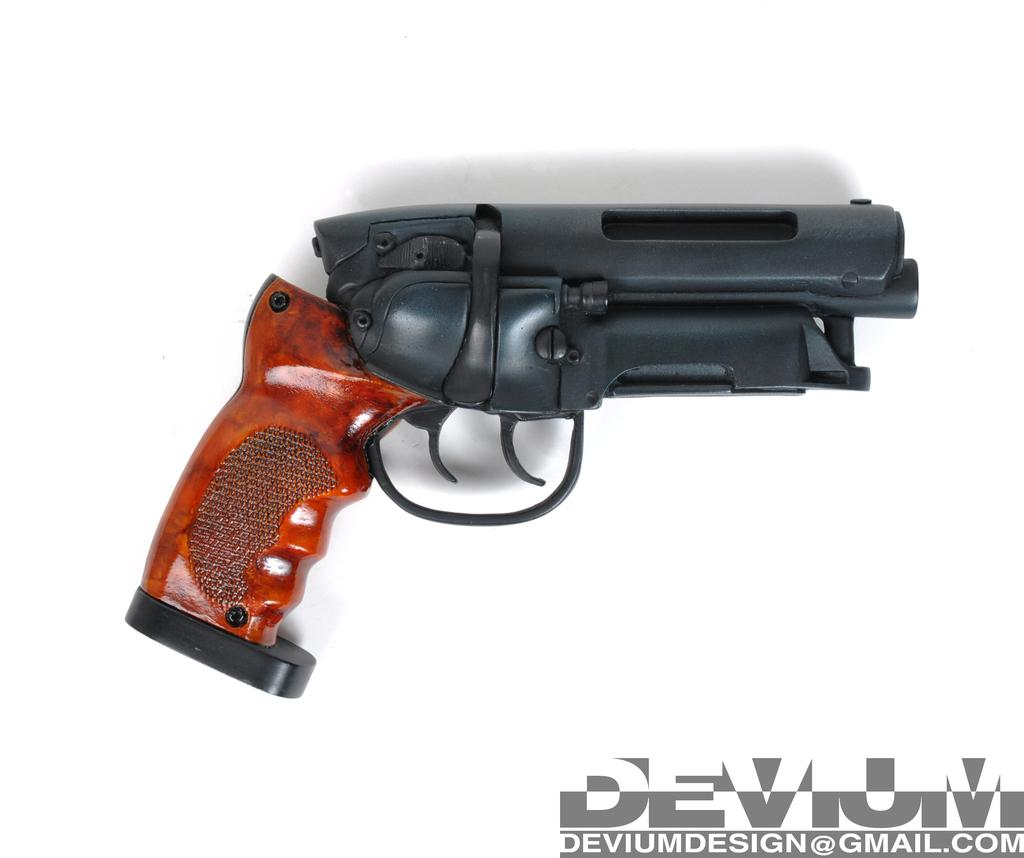Handgun: (120, 195, 920, 699)
